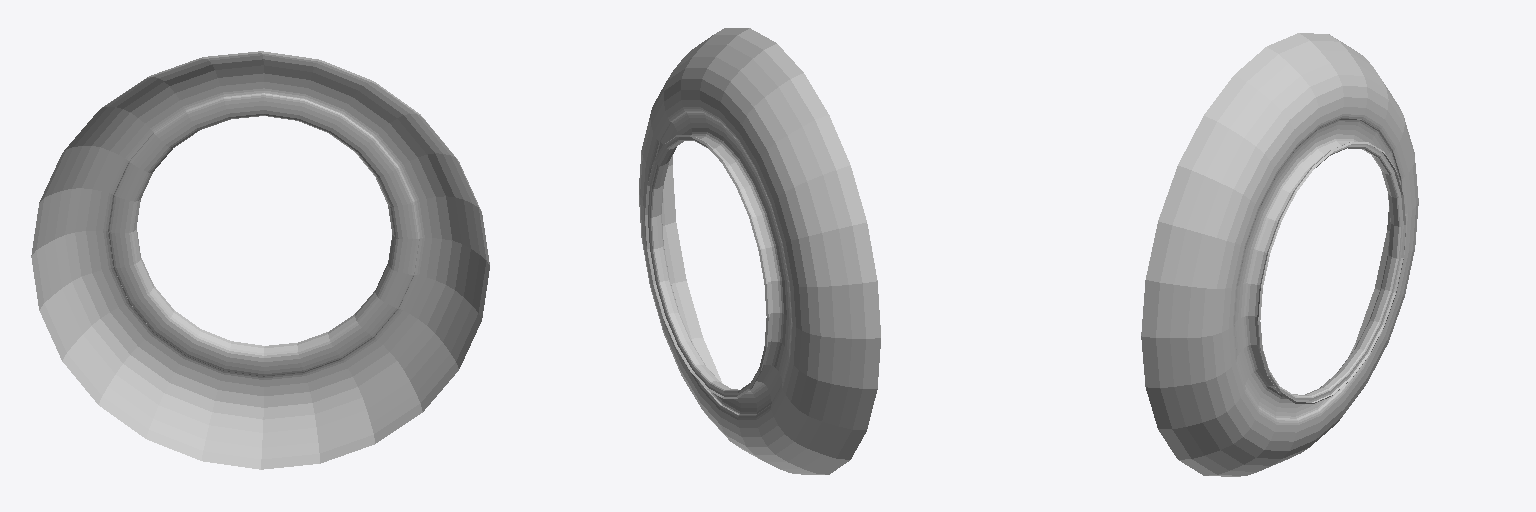
The model's file is ciliary_processes.obj.
3 views of the same model, side by side, from view 1: azimuth 30°, elevation 25°; view 2: azimuth 150°, elevation 25°; view 3: azimuth 270°, elevation 25° (orthographic).
Visible parts, largest first — view 1: ciliary_processes.obj; view 2: ciliary_processes.obj; view 3: ciliary_processes.obj.
Part boxes in pixels (x1,y1,x2,y2): ciliary_processes.obj: (31, 51, 489, 469); ciliary_processes.obj: (639, 28, 880, 474); ciliary_processes.obj: (1141, 33, 1418, 476).
Size of the model in its own units: 0.0139 by 0.0163 by 0.0099.